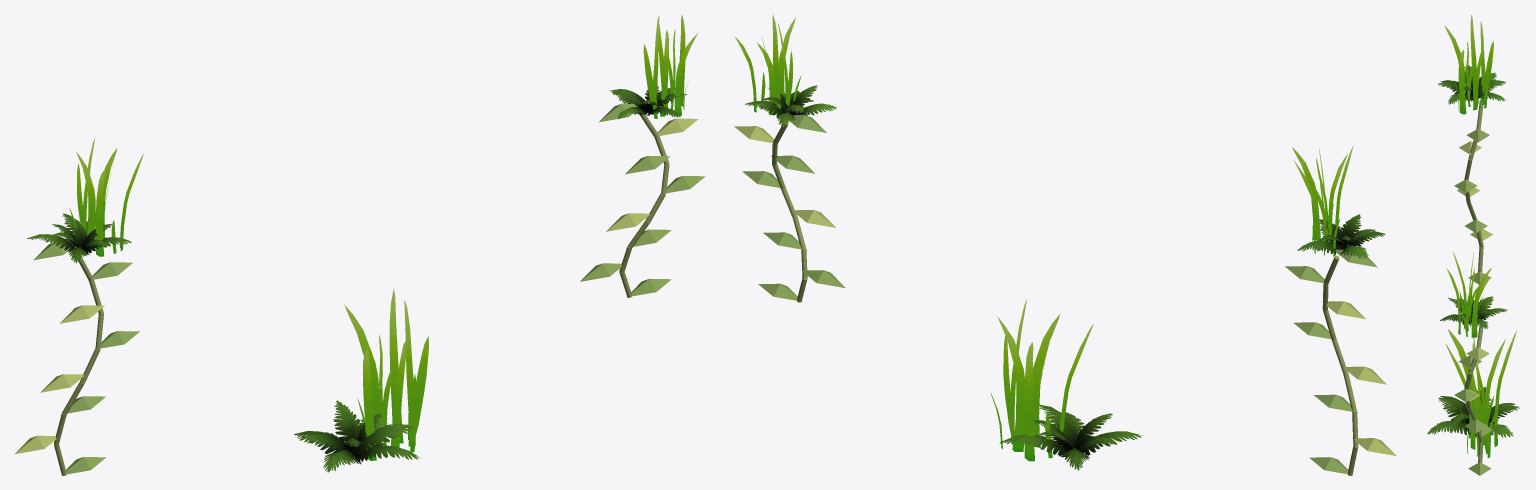
File: Split_Rail_Fence_Greenery.glb
3 views of the same model, side by side, from view 1: azimuth 30°, elevation 25°; view 2: azimuth 150°, elevation 25°; view 3: azimuth 270°, elevation 25° (orthographic). The views are drawn at different scales.
Parts seen in each view (by area): view 1: Patch_001, Patch_000, Patch_002; view 2: Patch_000, Patch_001, Patch_002; view 3: Patch_000, Patch_001, Patch_002.
Part boxes in pixels (x1,y1,x2,y2): Patch_001: (294, 288, 428, 472); Patch_000: (14, 137, 143, 475); Patch_002: (580, 15, 705, 297); Patch_000: (1285, 145, 1396, 475); Patch_001: (990, 299, 1141, 470); Patch_002: (734, 14, 845, 302); Patch_000: (1438, 15, 1506, 284); Patch_001: (1427, 329, 1519, 457); Patch_002: (1440, 252, 1507, 475).
Size of the model in its own units: 3.56 by 1.92 by 0.5395.
5 materials, 2 textured.
